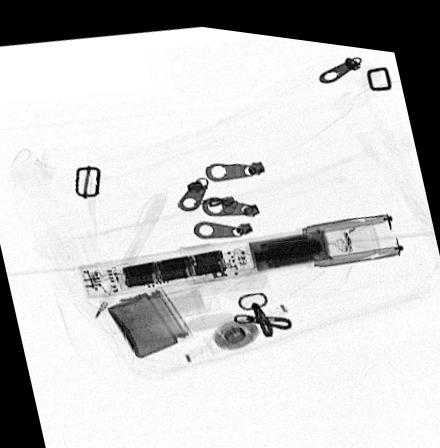Baton: (77, 199, 402, 296)
